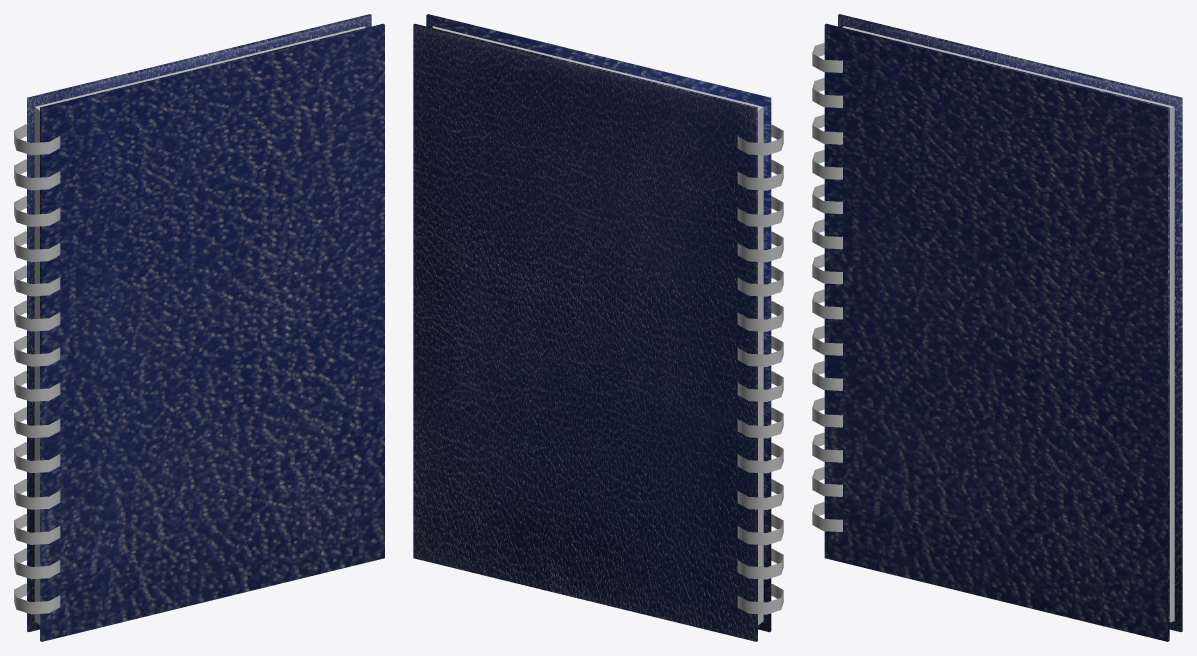
Rendered from notebook.fbx.
3 views of the same model, side by side, from view 1: azimuth 30°, elevation 25°; view 2: azimuth 150°, elevation 25°; view 3: azimuth 330°, elevation 25° (orthographic).
Parts seen in each view (by area): view 1: Notebook; view 2: Notebook; view 3: Notebook.
Boxes of the visible parts, x1,y1,x2,y2 form: Notebook: (14, 14, 384, 641); Notebook: (413, 14, 783, 641); Notebook: (812, 14, 1182, 641).
Bounding box in the file's own units: 10.66 × 15.06 × 1.22.
